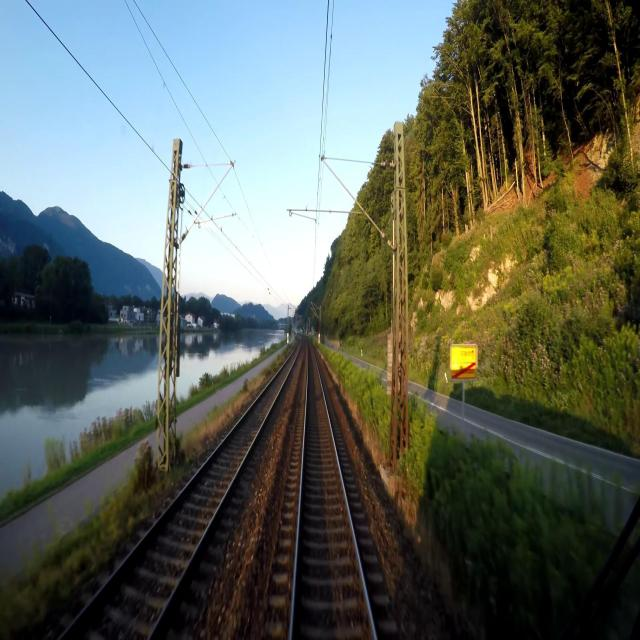rail-track: (293, 344, 372, 639)
